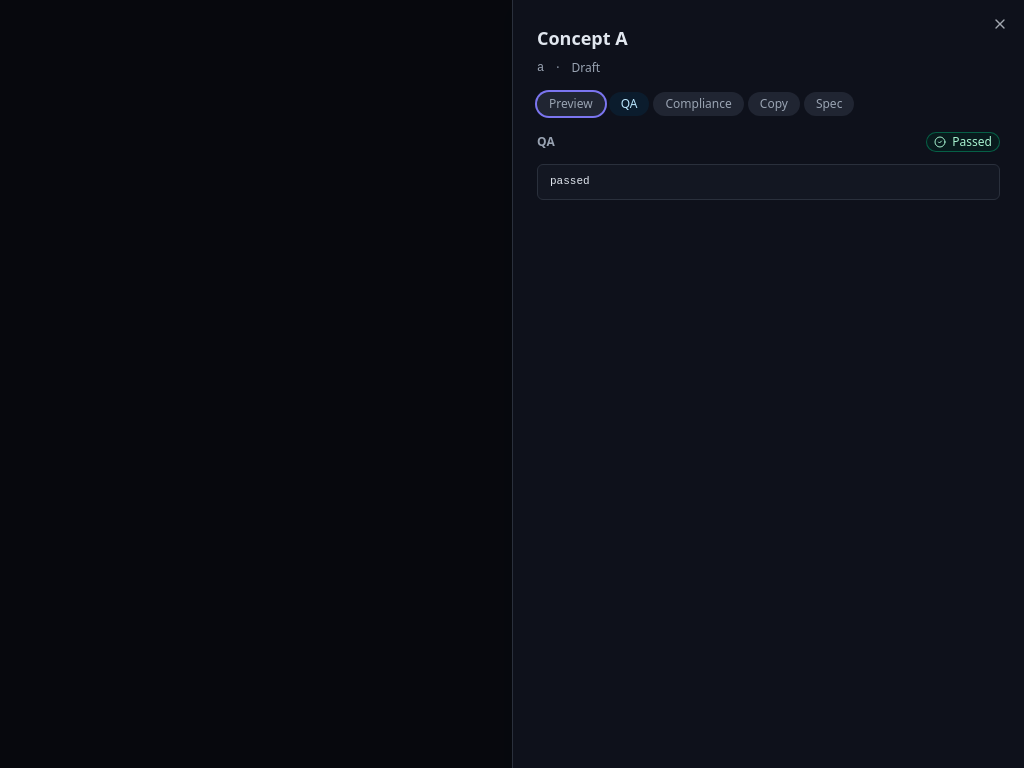
Scenario: ReviewDrawer › switches tabs on click
This screenshot has width=1024, height=768.
Click the tab with test id "drawer-tab-compliance_review". click: {"x": 699, "y": 104}
box: [654,92,744,116]
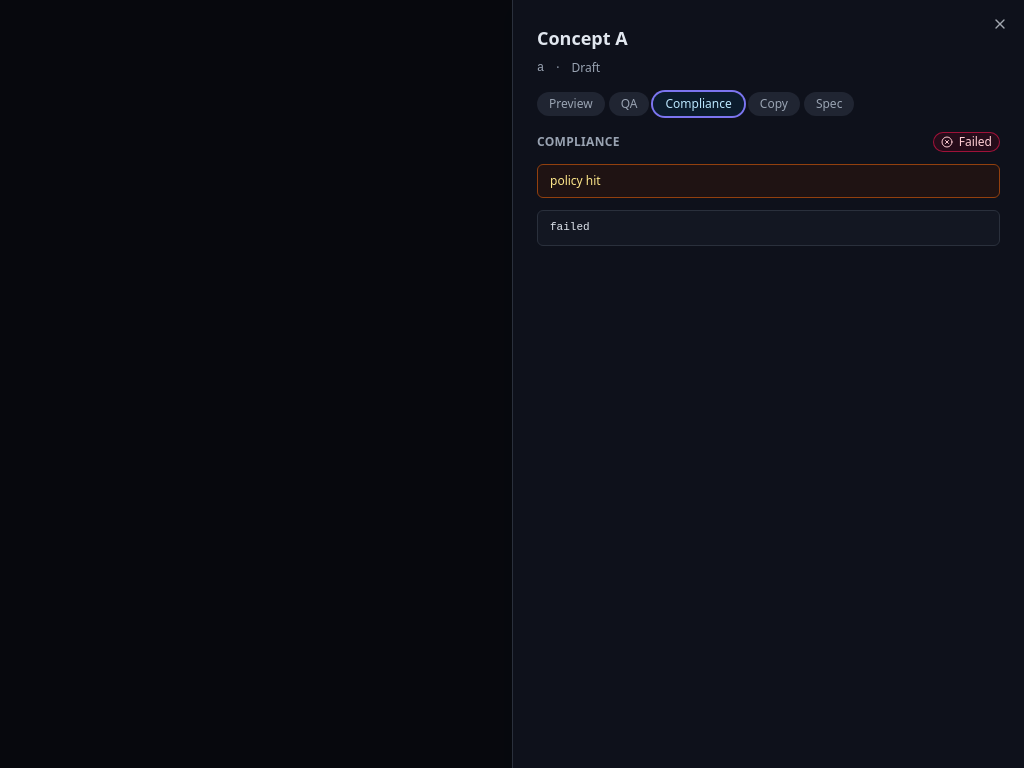
Expected: the panel with test id "drawer-panel-compliance_review" is shown, [537,132,1000,246]
Expected: the text "policy hit" is shown, [537,164,1000,198]
